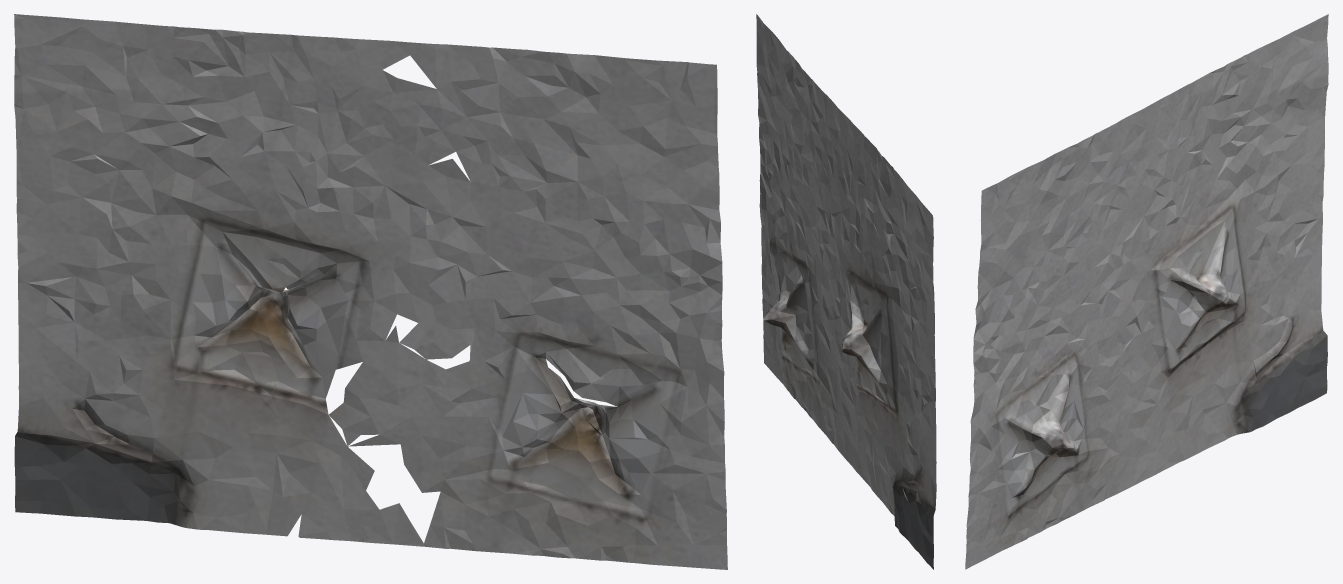
The picture shows the model from 3 angles, left to right: view 1: azimuth 30°, elevation 25°; view 2: azimuth 150°, elevation 25°; view 3: azimuth 270°, elevation 25°; orthographic projection. The views are drawn at different scales.
Size of the model in its own units: 0.8374 by 0.8374 by 0.7278.
4 materials, 4 textured.
